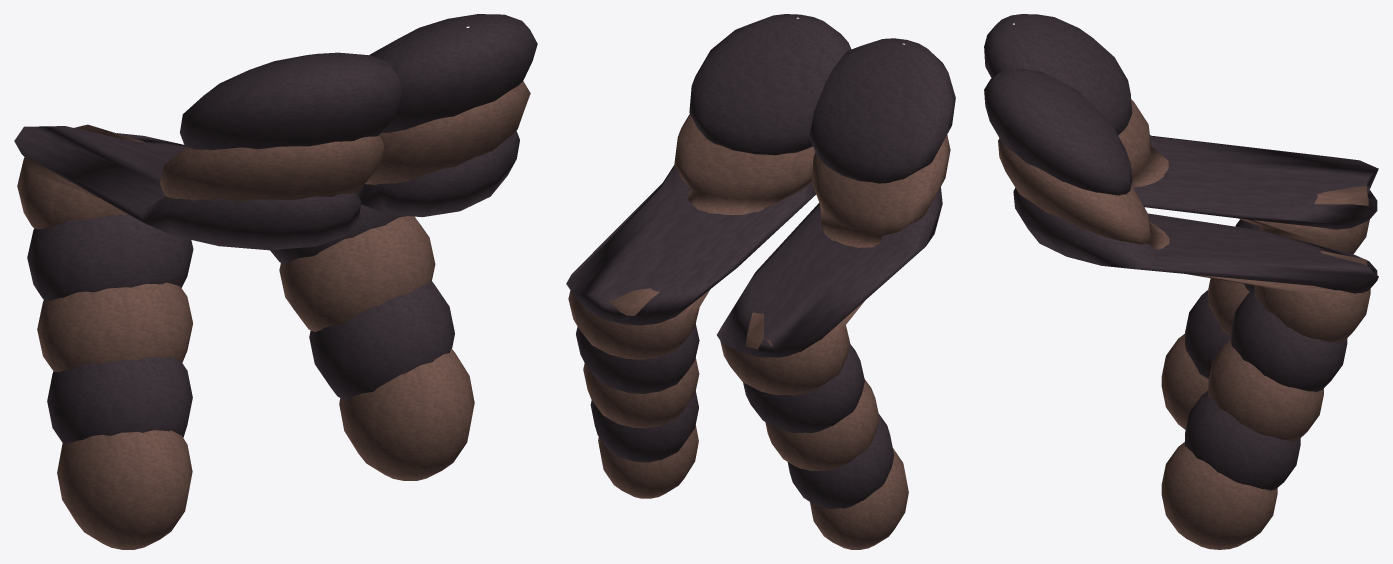
File: facial_twin_braid_beard.gltf
The picture shows the model from 3 angles, left to right: view 1: azimuth 30°, elevation 25°; view 2: azimuth 150°, elevation 25°; view 3: azimuth 270°, elevation 25°; orthographic projection. The views are drawn at different scales.
Parts seen in each view (by area): view 1: Twin Braid Beard; view 2: Twin Braid Beard; view 3: Twin Braid Beard.
Boxes of the visible parts, box(x1,y1,x2,y2) form: Twin Braid Beard: box(14, 14, 537, 549); Twin Braid Beard: box(566, 14, 955, 549); Twin Braid Beard: box(984, 14, 1378, 549).
Bounding box in the file's own units: 0.139 × 0.188 × 0.1527.
2 materials, 2 textured.
